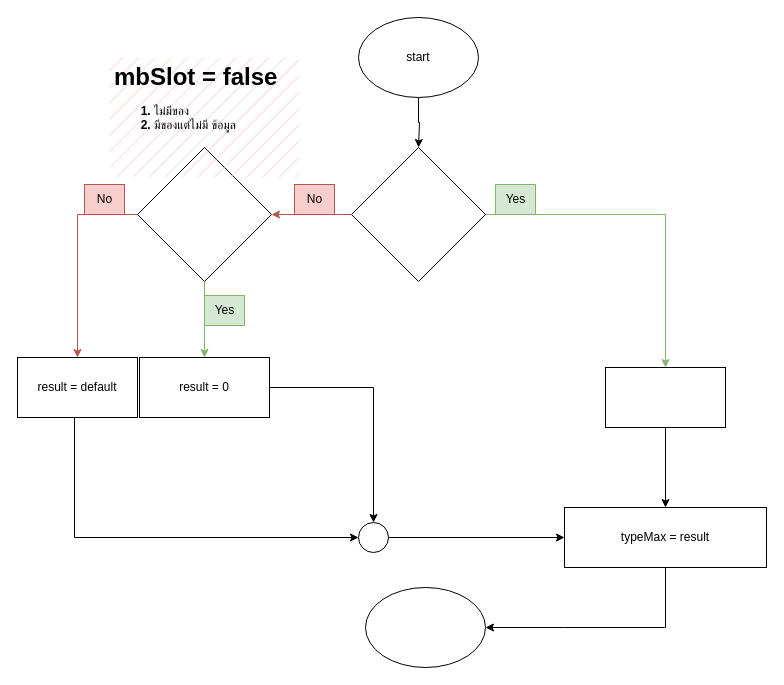
This 784x685 diagram has some shape labels left out. Each missing label, with the centre of its shape:
"End" belongs at point 425,627.
"ifFromSets" belongs at point 204,214.
"mbSlot?" belongs at point 418,214.
"result = mbSlot" belongs at point 665,397.
